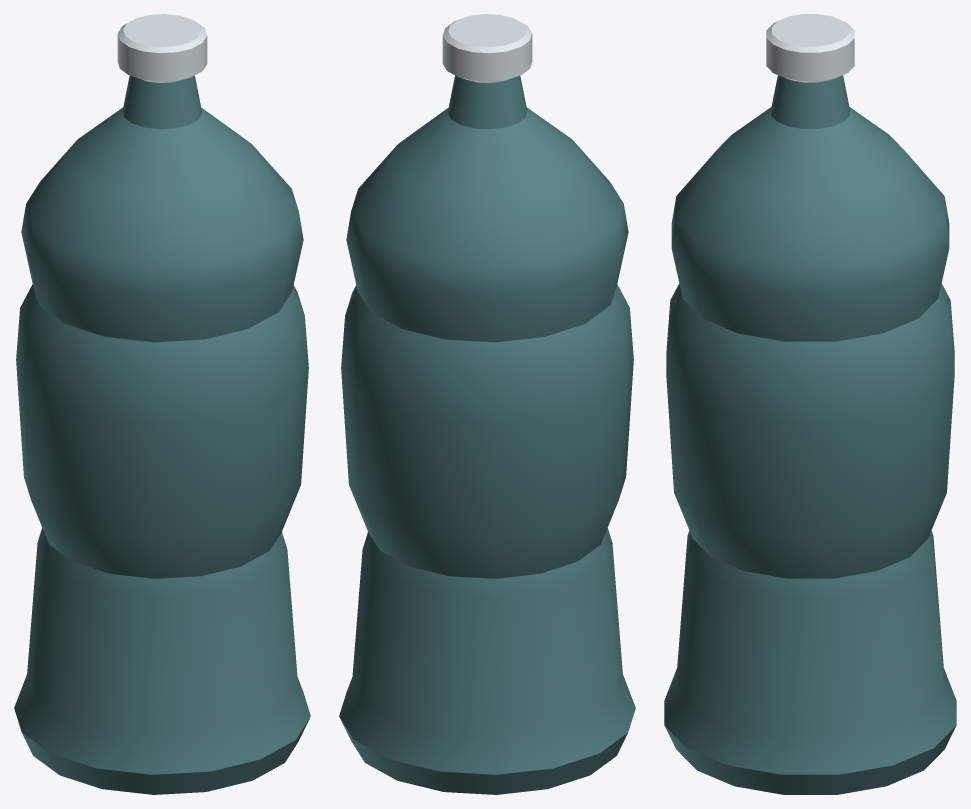
The model's file is Botella_01.fbx.
3 renders of one model, left to right at view 1: azimuth 30°, elevation 25°; view 2: azimuth 150°, elevation 25°; view 3: azimuth 270°, elevation 25°, orthographic.
Visible parts, largest first — view 1: Botella_01; view 2: Botella_01; view 3: Botella_01.
Boxes of the visible parts, <box> form: Botella_01: <box>14,14,310,794</box>; Botella_01: <box>339,14,635,794</box>; Botella_01: <box>664,14,956,794</box>.
Bounding box in the file's own units: 26.75 × 72.48 × 26.75.
